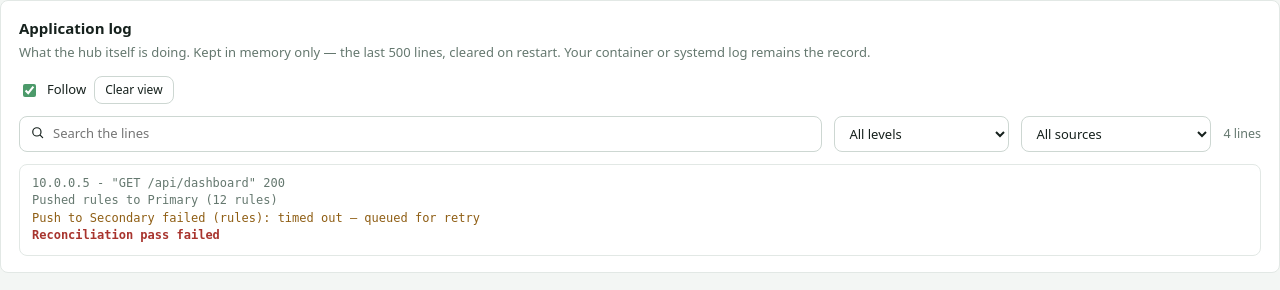
it: SettingsLog › an empty result says the filter did it, not that nothing was logged
Type "nothing here" into the field named "Search the log" at [421, 134], box x1=19 y1=116 x2=822 y2=152
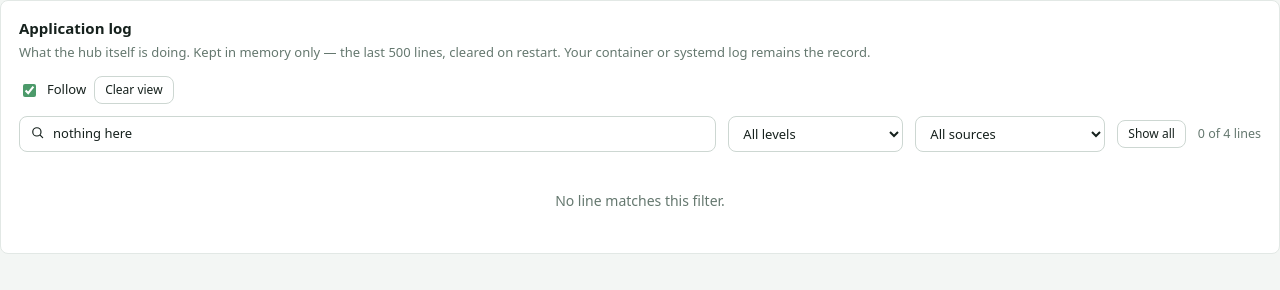
Check: the text "No line matches this filter." is shown, box x1=555 y1=191 x2=725 y2=210
